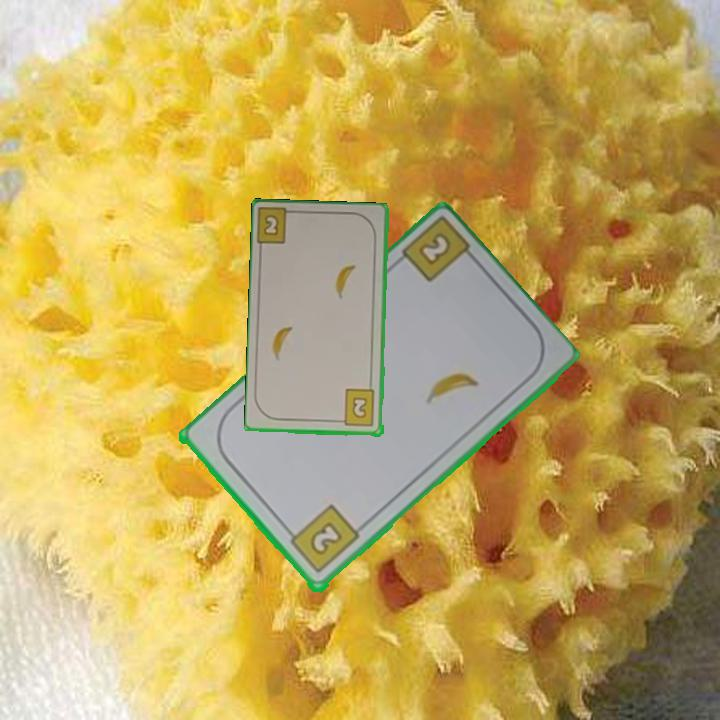2b: (282, 502, 362, 577), (255, 206, 301, 248), (335, 386, 378, 429), (414, 233, 451, 269)
